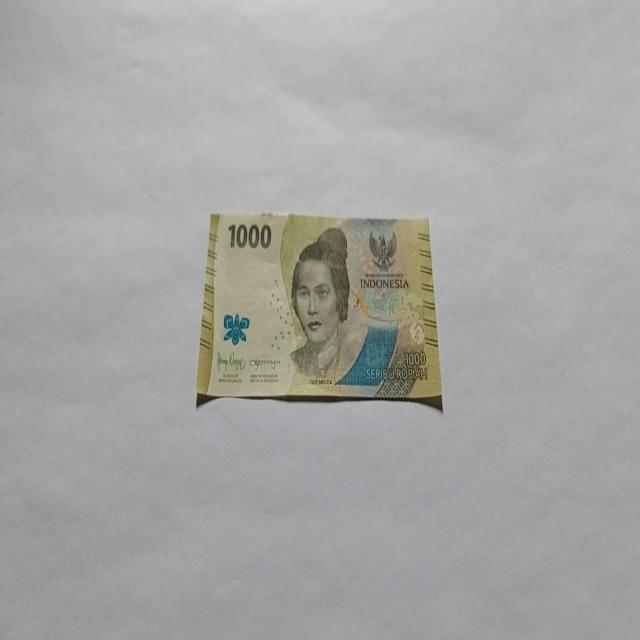seribu rupiah kertas: (195, 210, 443, 410)
